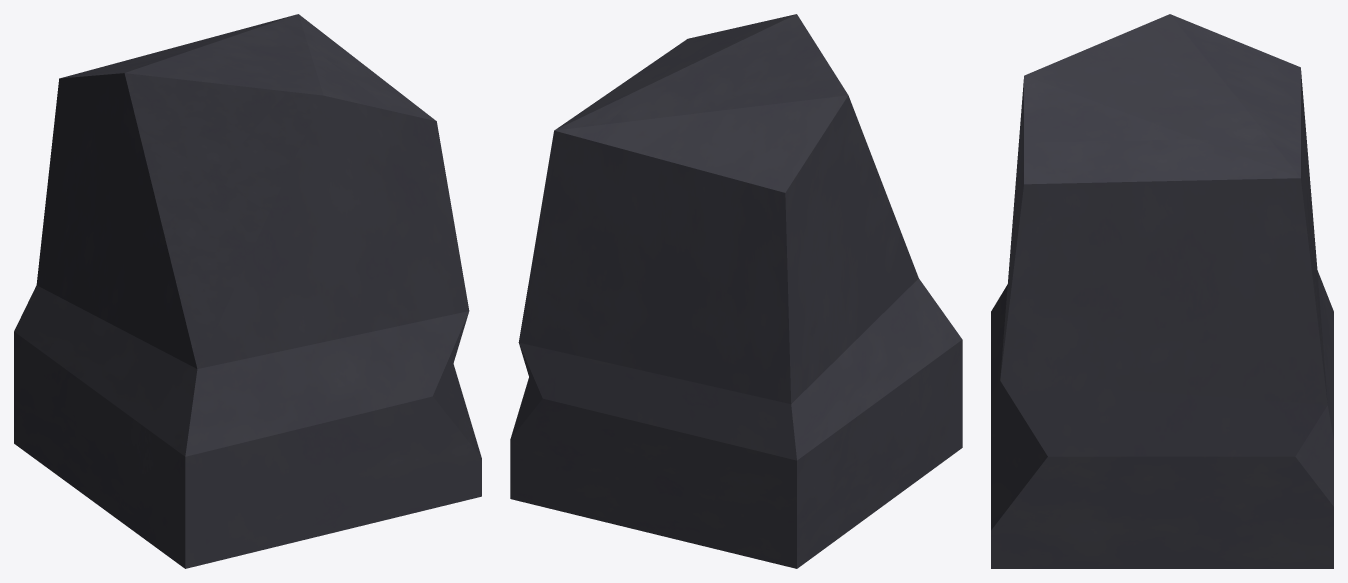
Rendered from rock 4.fbx.
3 renders of one model, left to right at view 1: azimuth 30°, elevation 25°; view 2: azimuth 150°, elevation 25°; view 3: azimuth 270°, elevation 25°, orthographic. The views are drawn at different scales.
Visible parts, largest first — view 1: Cube.003; view 2: Cube.003; view 3: Cube.003.
Boxes of the visible parts, left/top/right/bottom form: Cube.003: left=14, top=14, right=481, bottom=568; Cube.003: left=510, top=14, right=962, bottom=568; Cube.003: left=991, top=14, right=1333, bottom=568.
Bounding box in the file's own units: 248 × 338 × 248.
